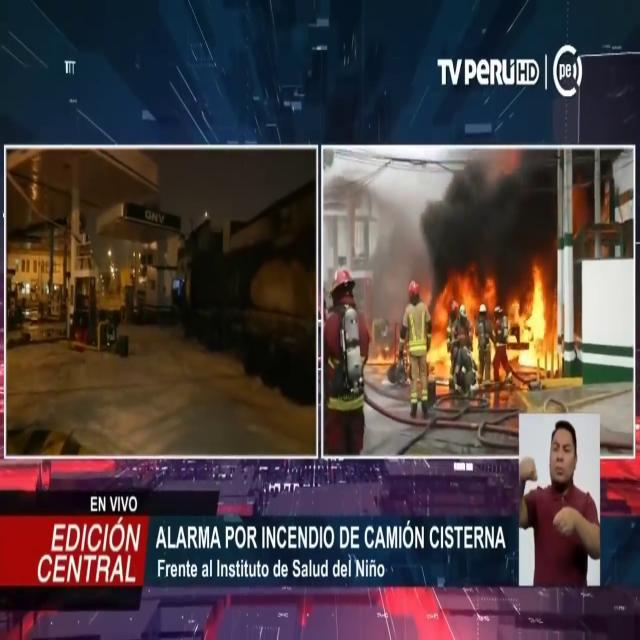Fire: (416, 262, 567, 399)
Smoke: (403, 141, 561, 283)
